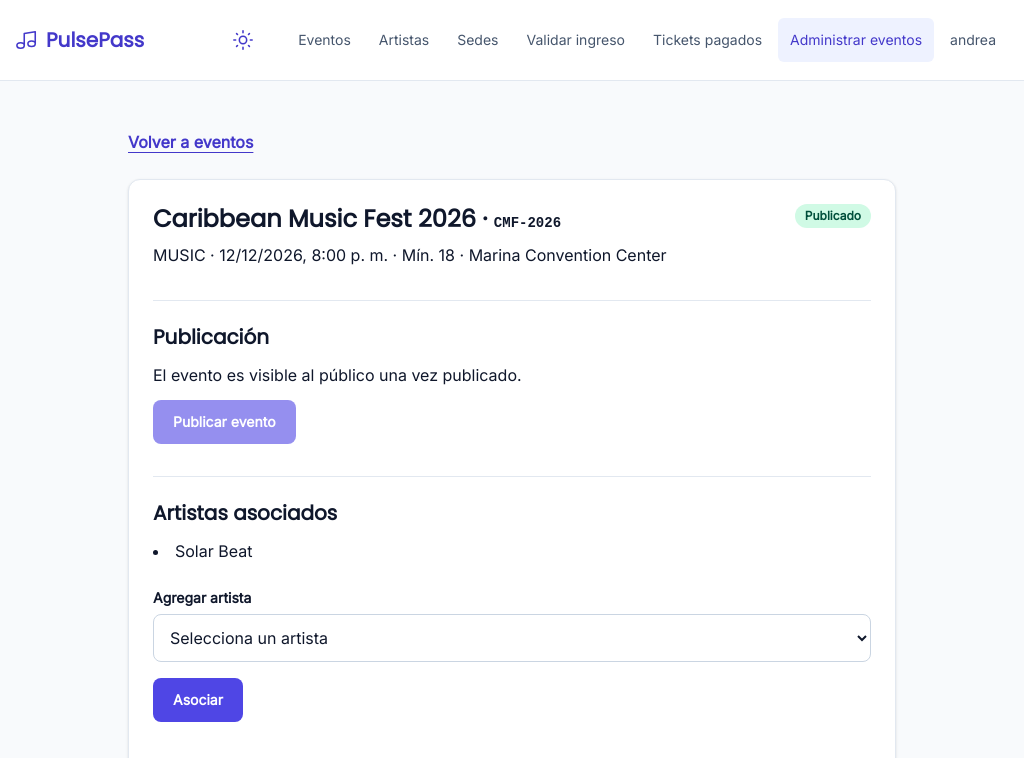
Test: TEST-FE-ADM-006 un 409 al asociar se muestra sin modificar la lista
Select "Neon Waves" in the dropdown labelled "Agregar artista". click: (512, 638)
box: x1=153 y1=614 x2=871 y2=662
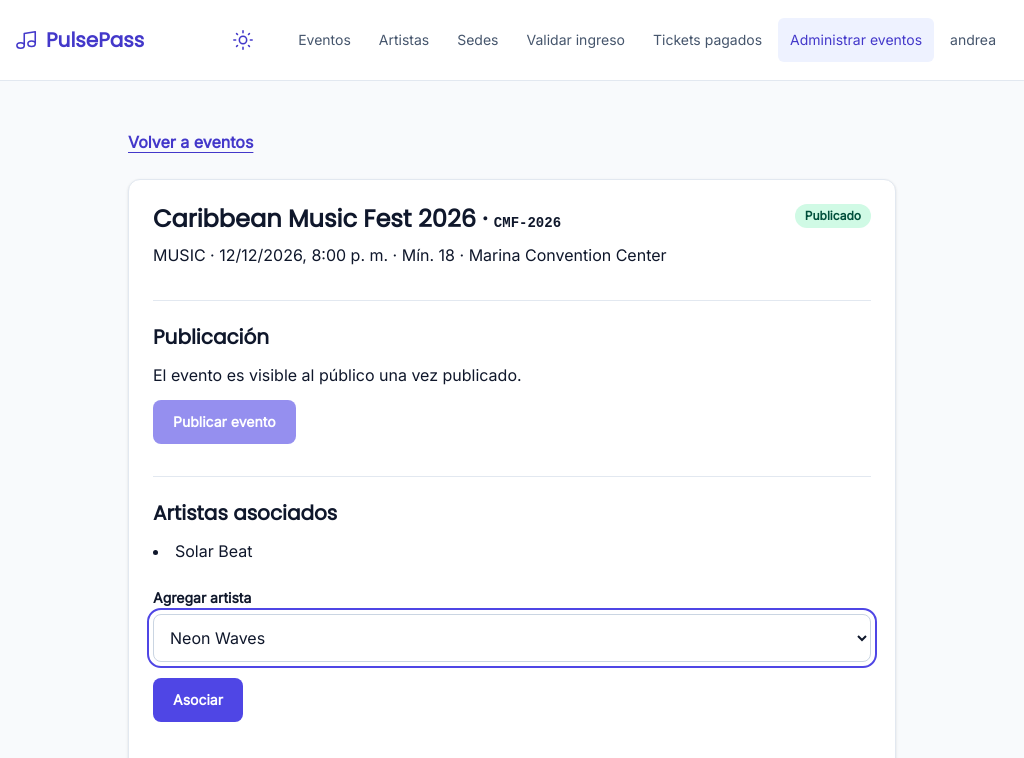
Click the button "Asociar". click: (198, 700)
box: x1=153 y1=678 x2=243 y2=722
(page scrolled)
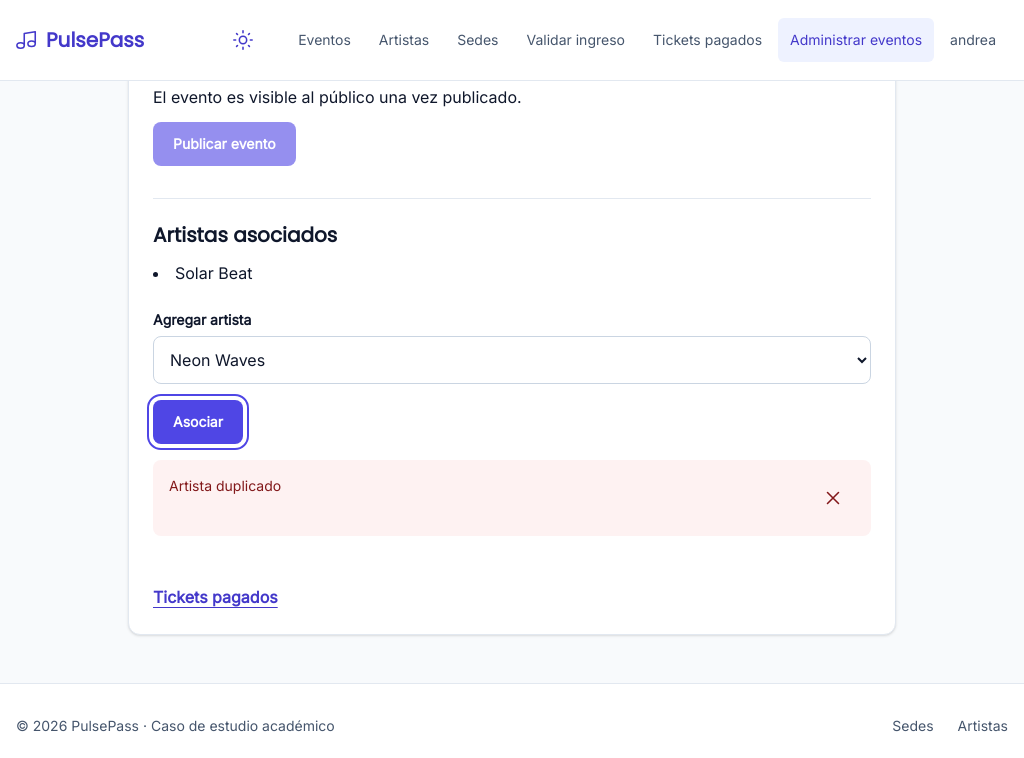
Now the text "Artista duplicado" is shown, box x1=169 y1=476 x2=281 y2=496
